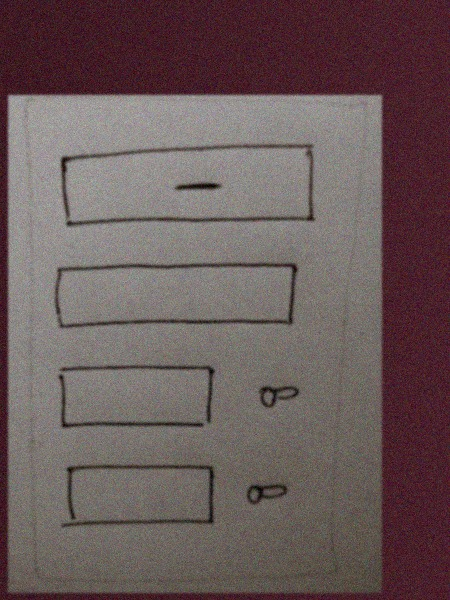button: (49, 135, 324, 236)
switch: (238, 471, 300, 521), (250, 374, 307, 418)
text_input: (46, 259, 303, 335), (55, 459, 224, 537), (49, 360, 224, 435)
